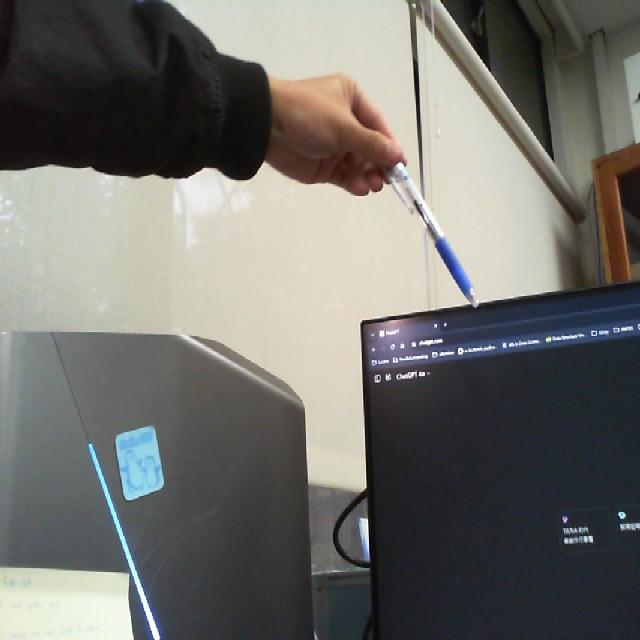Pen: (369, 112, 504, 324)
